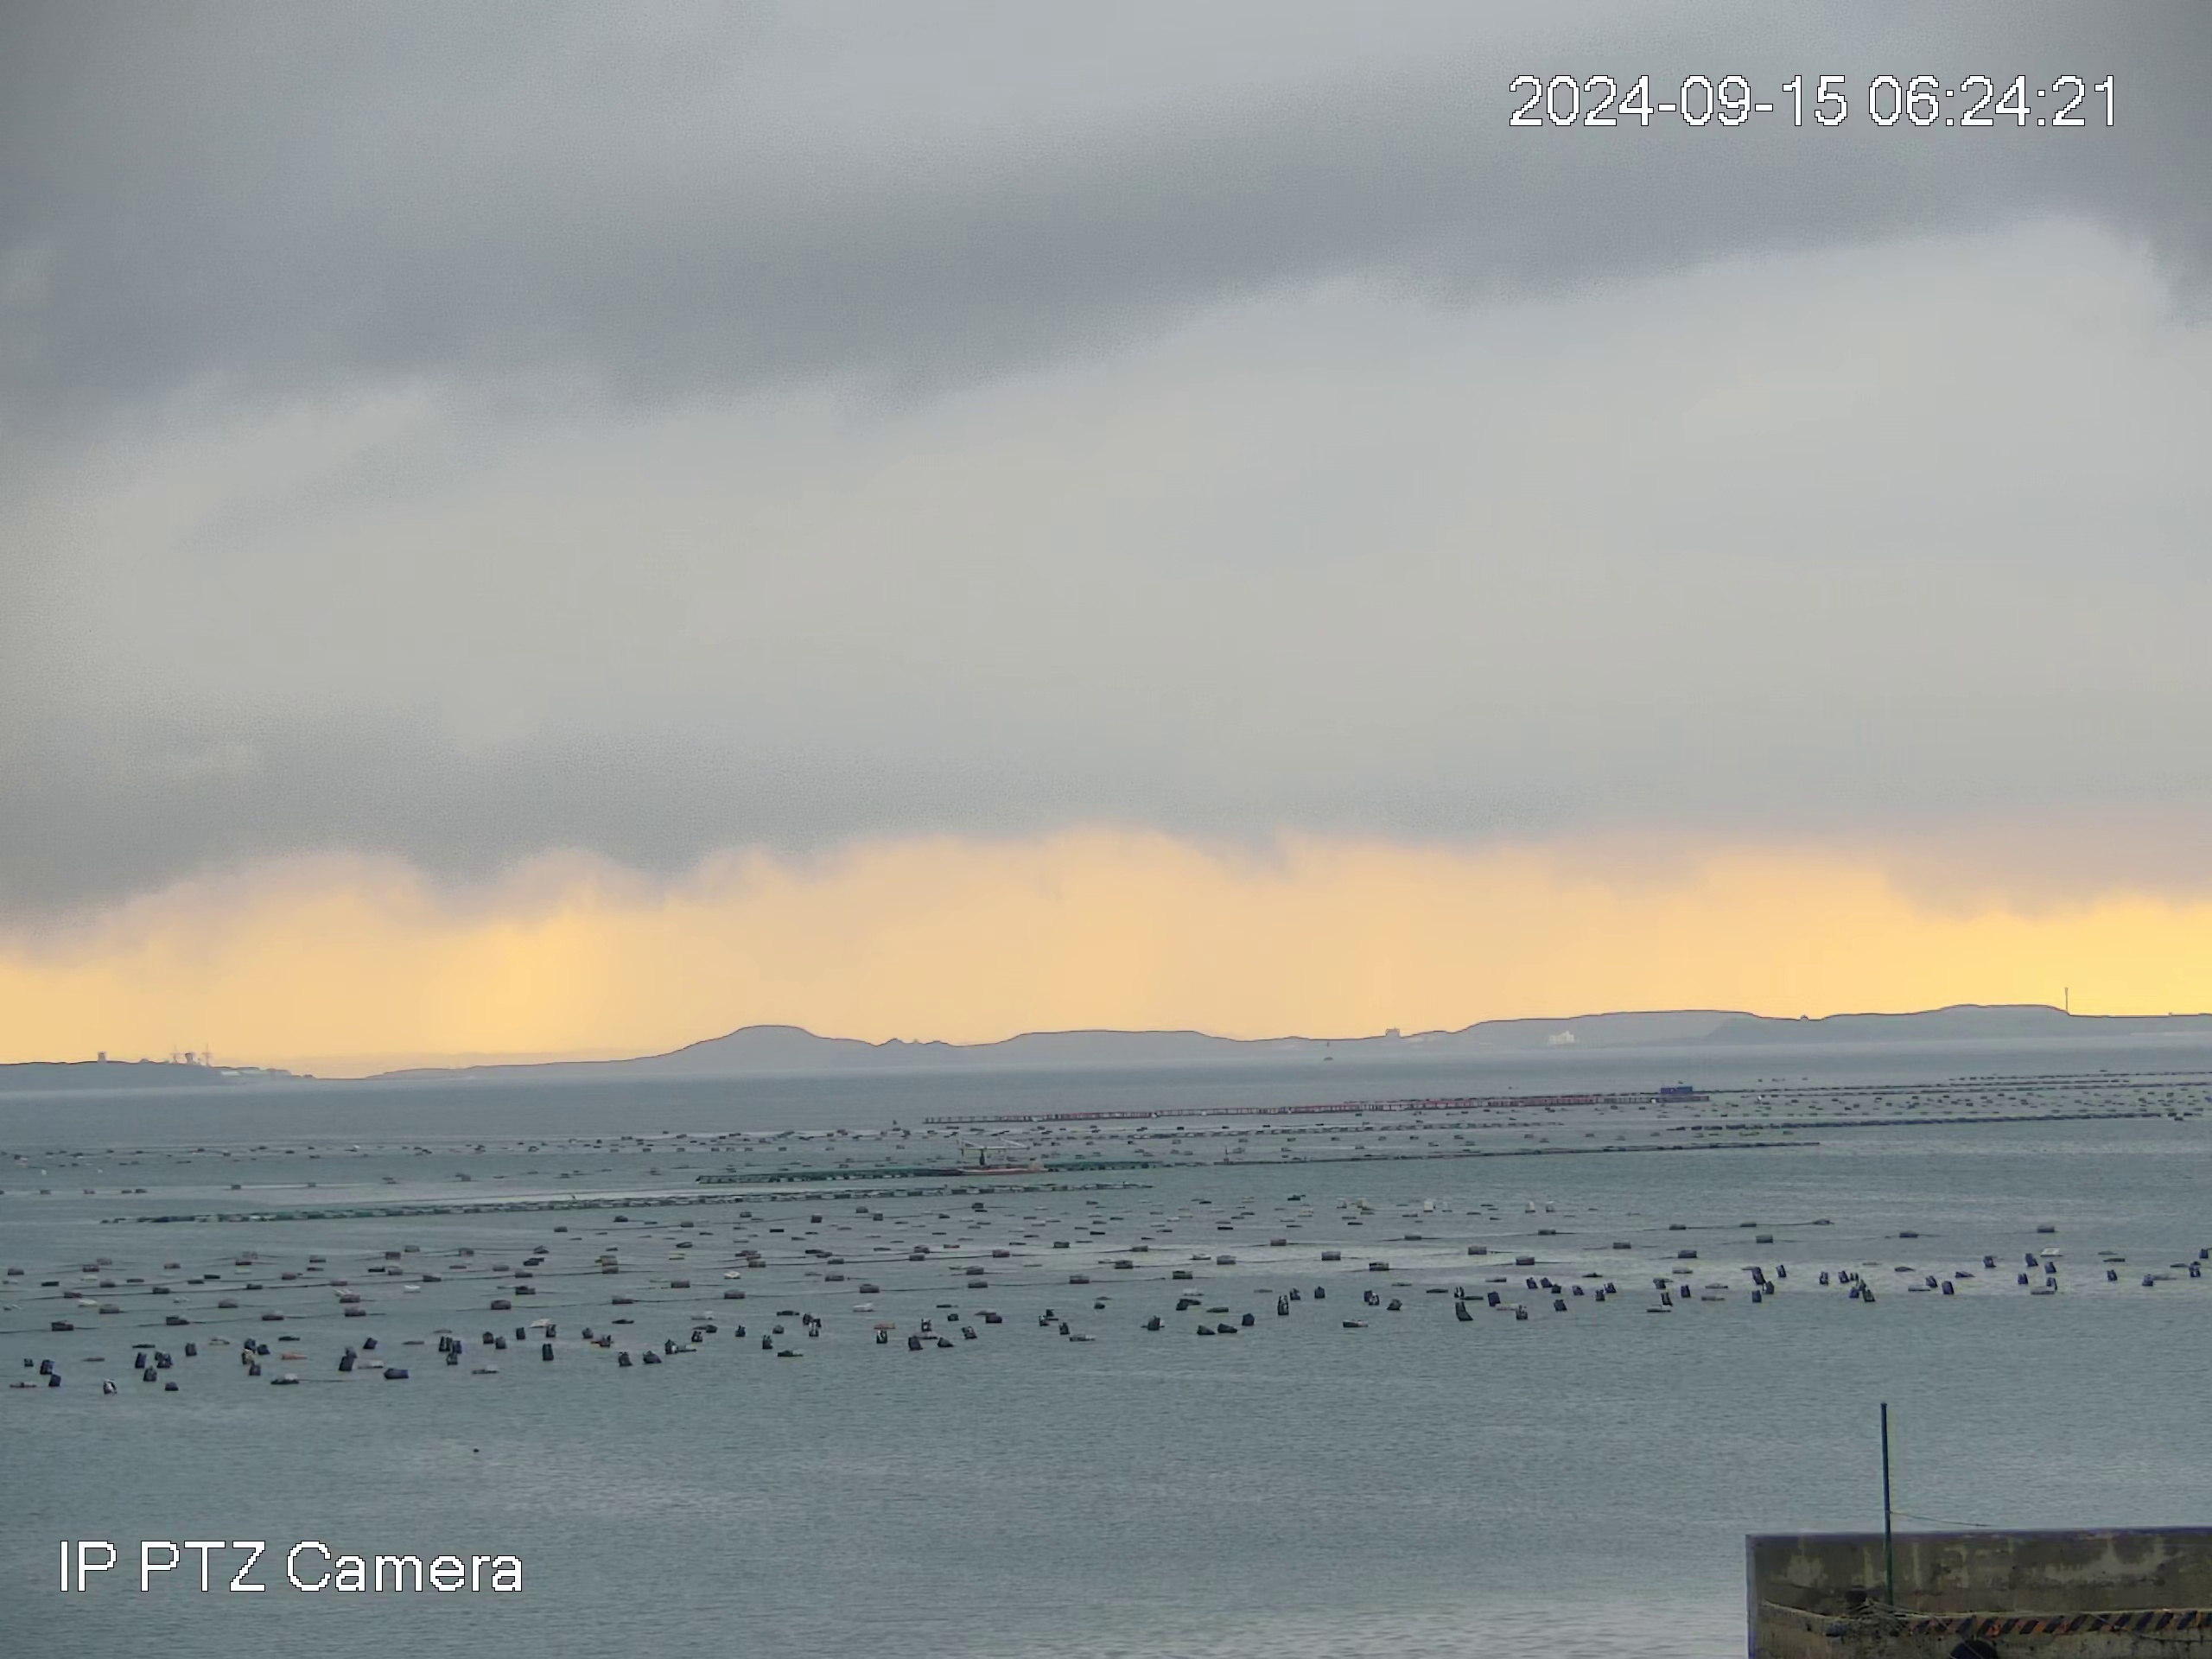boat: (953, 1131, 1050, 1178)
